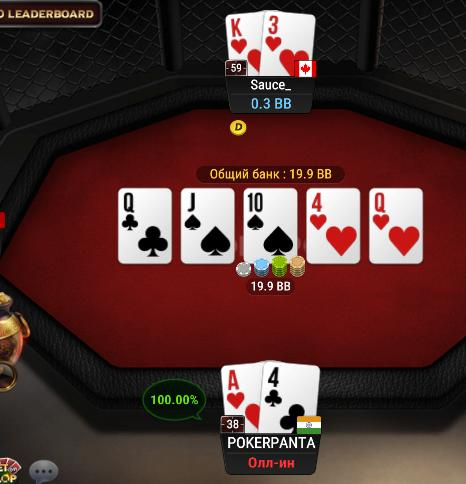10s: (245, 189, 297, 264)
3h: (262, 9, 315, 77)
4c: (261, 359, 320, 434)
4h: (307, 189, 359, 264)
Ah: (221, 364, 261, 433)
Js: (182, 189, 235, 261)
Kh: (224, 13, 262, 74)
Qc: (118, 189, 170, 263)
Qh: (371, 191, 423, 260)
